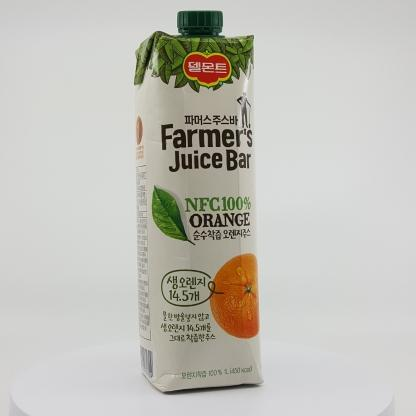------------1L: (134, 10, 264, 392)
